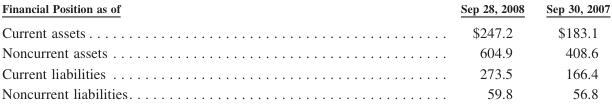table: (1, 0, 609, 101)
table column: (1, 0, 295, 101), (295, 0, 534, 101), (534, 0, 609, 101)
table column header: (1, 0, 609, 19)
table row: (1, 19, 609, 42), (1, 42, 609, 62), (1, 62, 609, 82), (1, 0, 609, 19), (1, 82, 609, 101)
